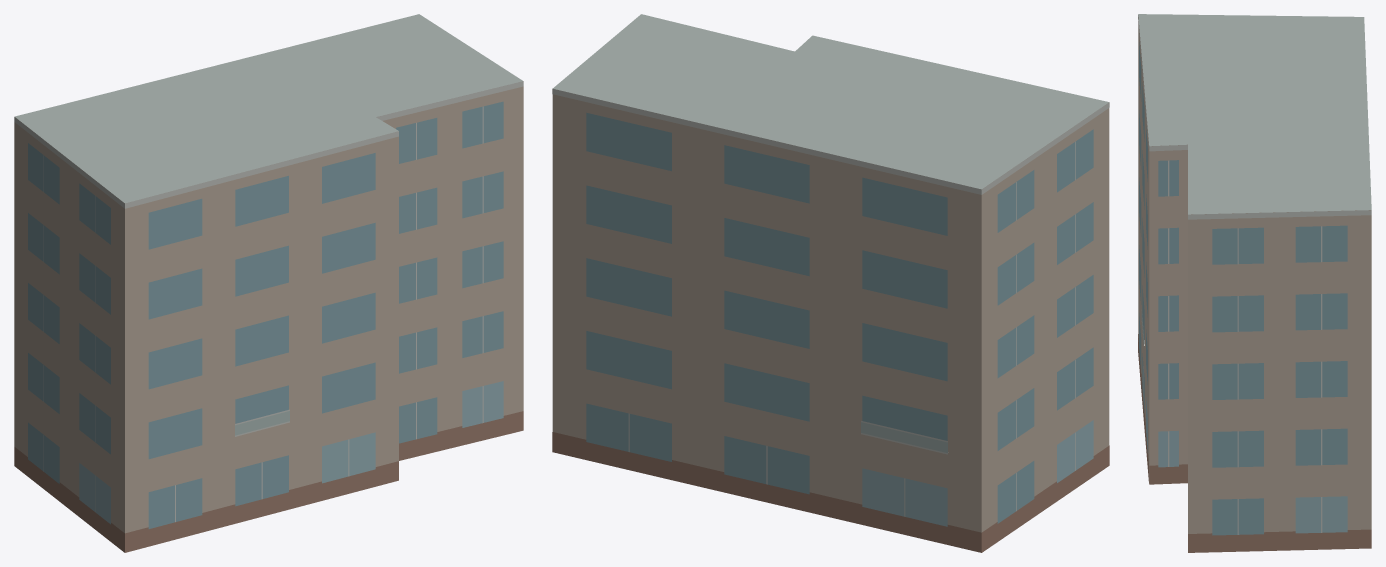
File: survey-upis-32501501.glb
3 views of the same model, side by side, from view 1: azimuth 30°, elevation 25°; view 2: azimuth 150°, elevation 25°; view 3: azimuth 270°, elevation 25° (orthographic). The views are drawn at different scales.
Parts seen in each view (by area): view 1: survey-upis-32501501.tmp; view 2: survey-upis-32501501.tmp; view 3: survey-upis-32501501.tmp.
Part boxes in pixels (x1,y1,x2,y2): survey-upis-32501501.tmp: (14,14,523,552); survey-upis-32501501.tmp: (552,14,1109,552); survey-upis-32501501.tmp: (1138,14,1371,552).
Size of the model in its own units: 20.28 by 15.95 by 9.99.
